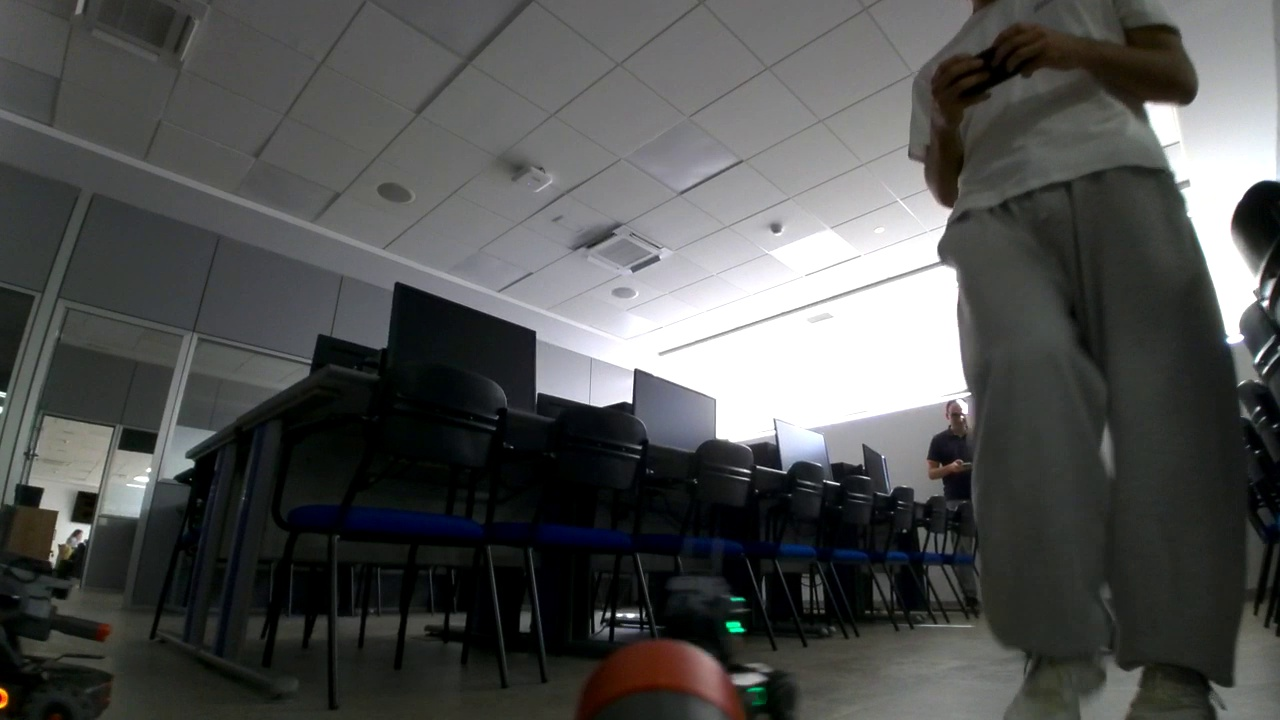robot: (650, 574, 795, 717), (2, 545, 112, 720)
